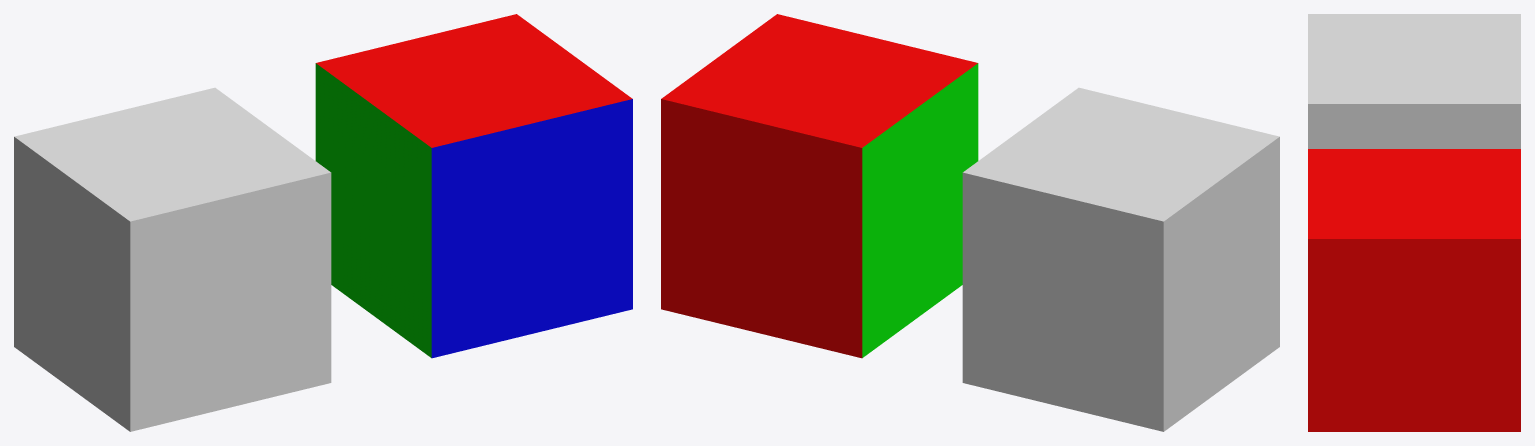
File: AnimatedMorphCube.gltf
The picture shows the model from 3 angles, left to right: view 1: azimuth 30°, elevation 25°; view 2: azimuth 150°, elevation 25°; view 3: azimuth 270°, elevation 25°; orthographic projection. The views are drawn at different scales.
Visible parts, largest first — view 1: Box001, Box004; view 2: Box001, Box004; view 3: Box004, Box001.
Boxes of the visible parts, left/top/right/bottom form: Box001: left=14, top=87, right=331, bottom=431; Box004: left=315, top=14, right=632, bottom=358; Box001: left=962, top=87, right=1279, bottom=431; Box004: left=661, top=14, right=978, bottom=358; Box004: left=1308, top=149, right=1520, bottom=431; Box001: left=1308, top=14, right=1520, bottom=148.
Bounding box in the file's own units: 250 × 100 × 100.
